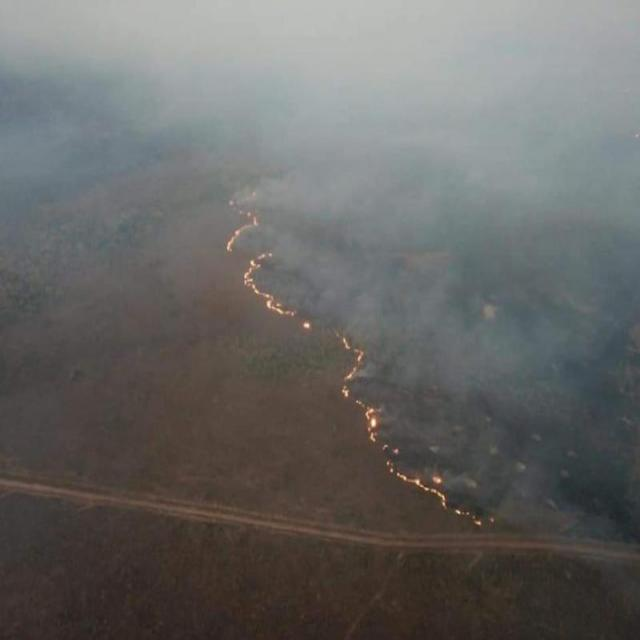Fire: (386, 454, 500, 530), (328, 324, 385, 441), (244, 254, 293, 316), (223, 200, 257, 250)
